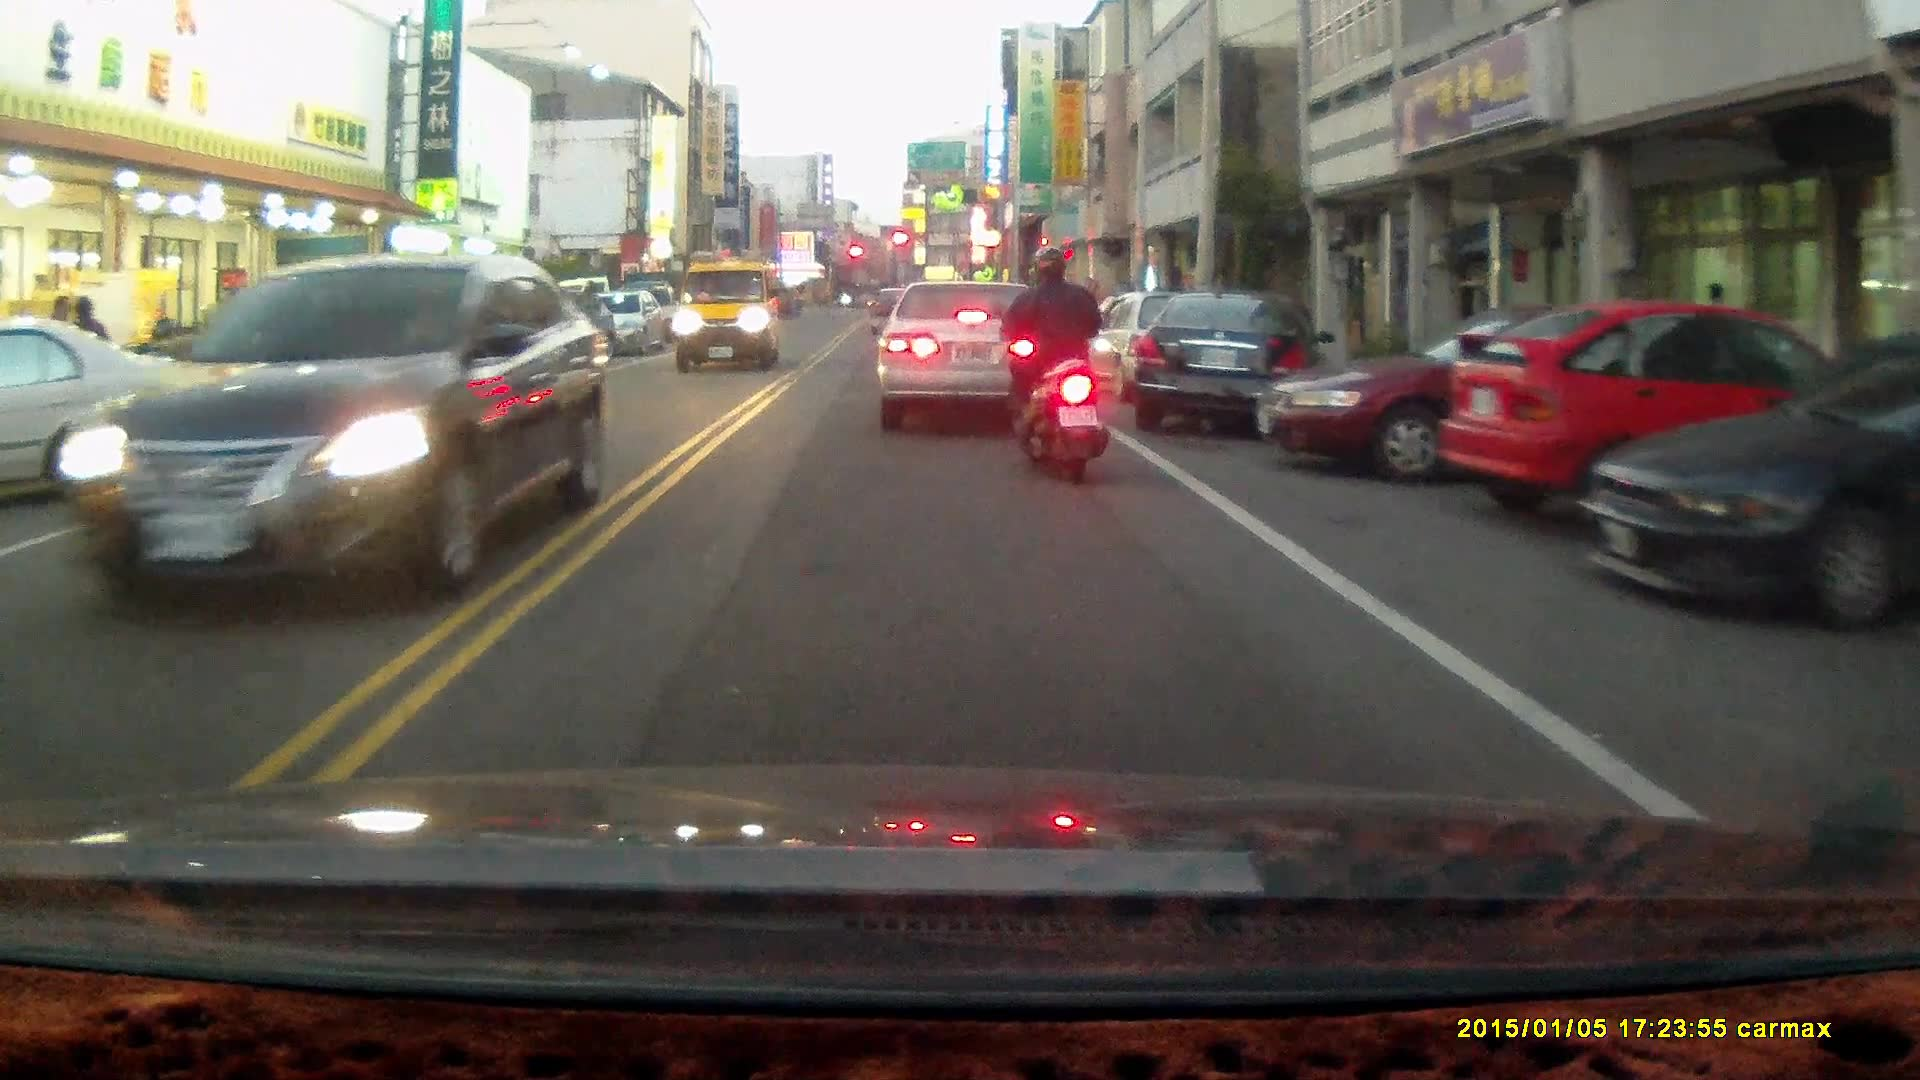pedestrian: (569, 280, 602, 372)
rider: (991, 249, 1117, 489)
vehicle: (59, 251, 607, 604), (1571, 332, 1920, 636), (1438, 304, 1843, 545), (1257, 303, 1716, 491), (1255, 306, 1712, 488), (1, 316, 217, 506), (1123, 293, 1312, 437), (874, 278, 1056, 424), (671, 260, 778, 375)
